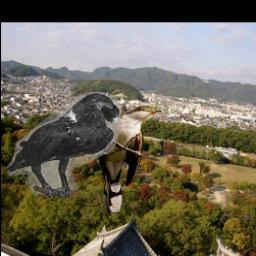Crow: (8, 93, 121, 199)
Cuckoo: (94, 107, 163, 215)
